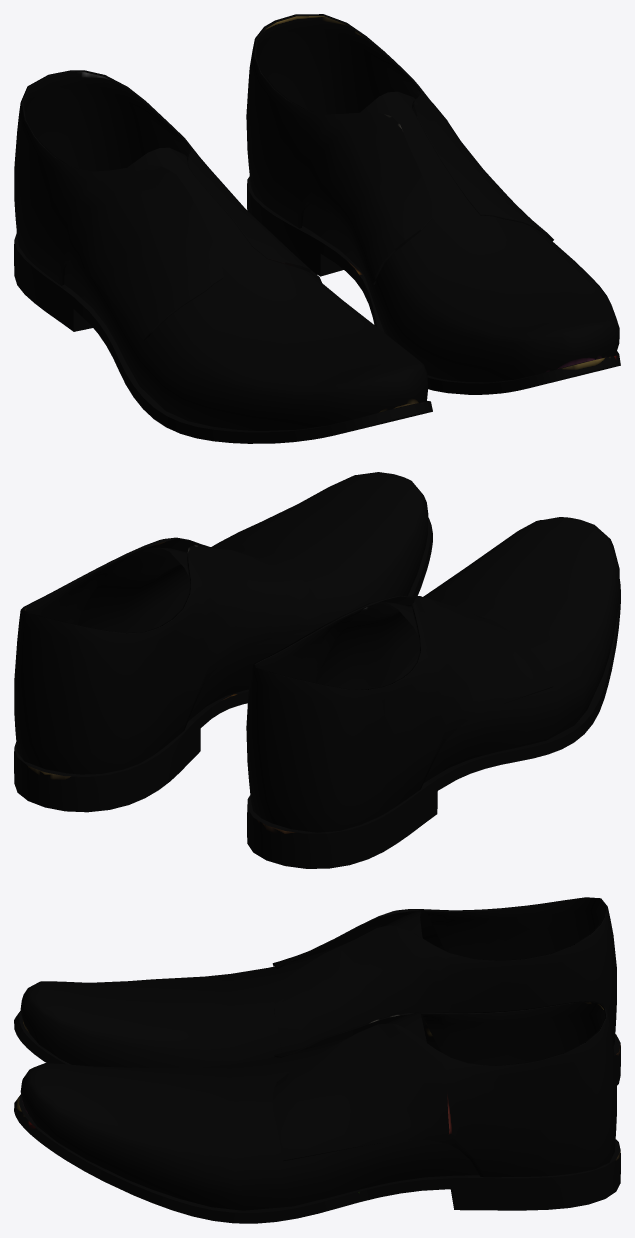
File: FormalShoeM2.fbx
The picture shows the model from 3 angles, top to bottom: view 1: azimuth 30°, elevation 25°; view 2: azimuth 150°, elevation 25°; view 3: azimuth 270°, elevation 25°; orthographic projection. The views are drawn at different scales.
Visible parts, largest first — view 1: FormalShoeM2; view 2: FormalShoeM2; view 3: FormalShoeM2.
Boxes of the visible parts, x1,y1,x2,y2 form: FormalShoeM2: [14, 14, 620, 443]; FormalShoeM2: [14, 472, 620, 868]; FormalShoeM2: [14, 897, 620, 1223].
Size of the model in its own units: 20.97 by 8.7 by 28.51.
